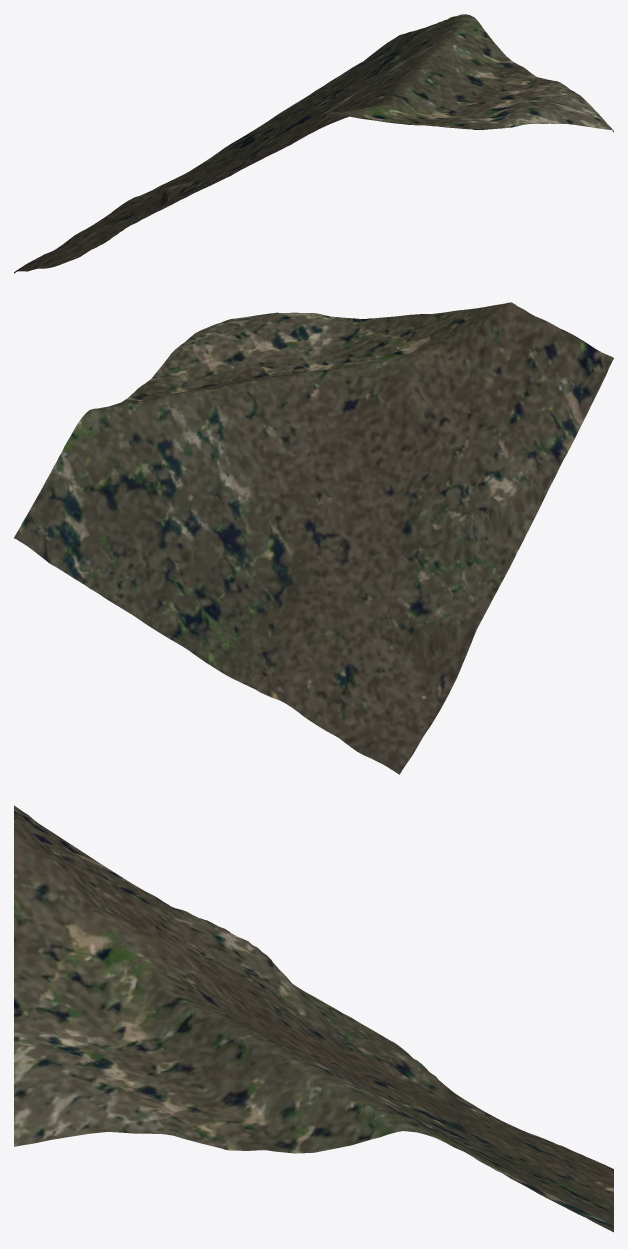
The picture shows the model from 3 angles, top to bottom: view 1: azimuth 30°, elevation 25°; view 2: azimuth 150°, elevation 25°; view 3: azimuth 270°, elevation 25°; orthographic projection. The views are drawn at different scales.
Size of the model in its own units: 250 by 181 by 241.
1 material, 1 textured.
